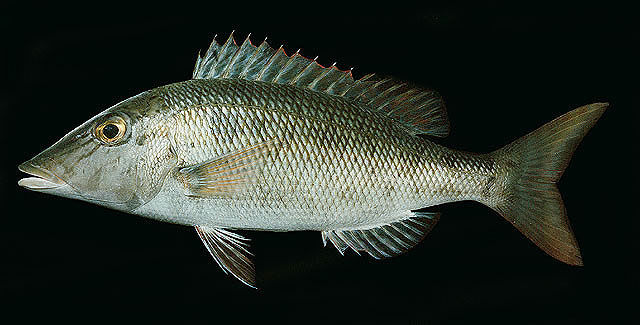fish: (18, 30, 614, 291)
